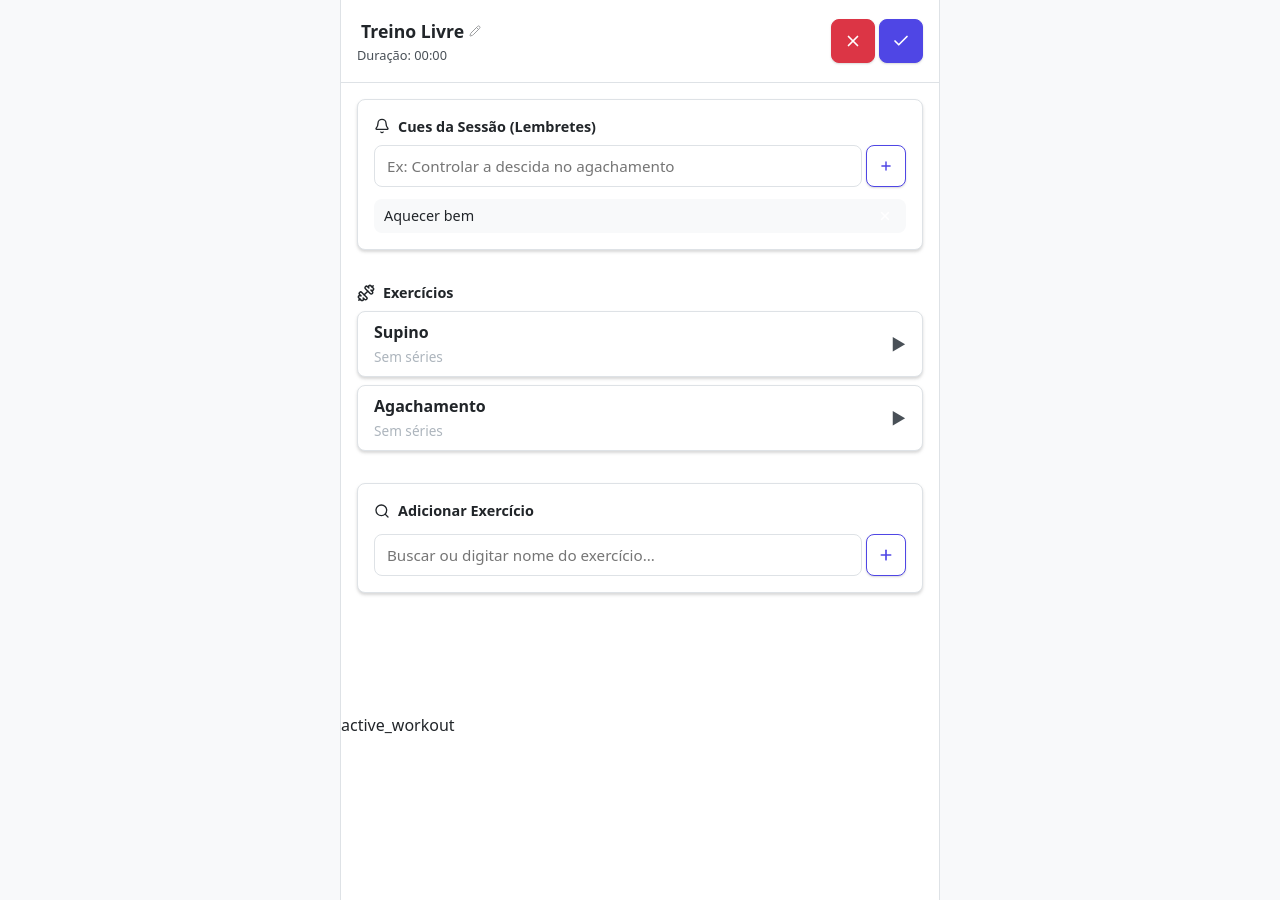
Test: ActiveWorkoutView — detalhe do exercício › exclui o exercício após confirmação e volta para a lista
This screenshot has width=1280, height=900.
Click the button "Supino Sem séries ▶": [401, 332] box [357, 311, 923, 377]
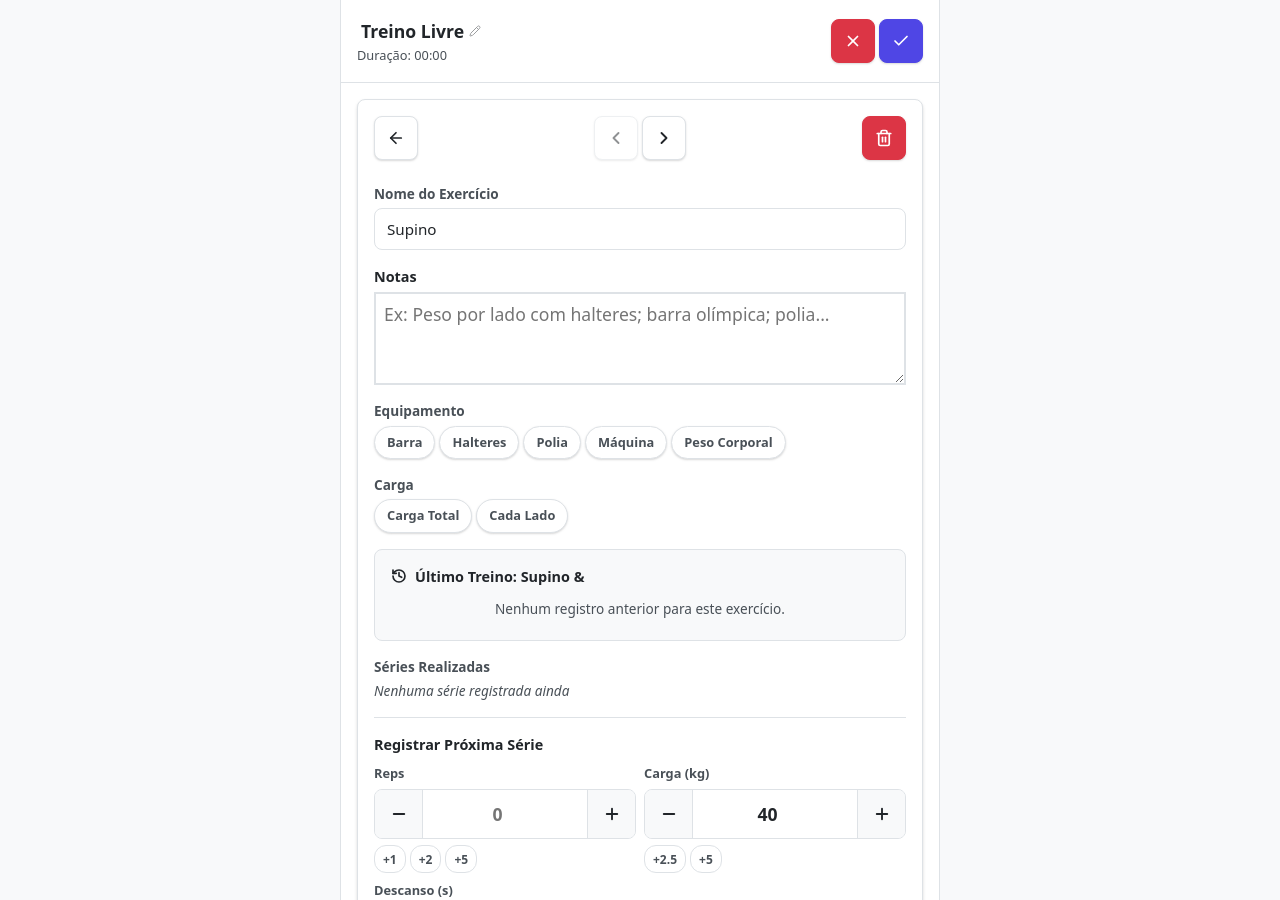
Click the button named "Excluir exercício atual": [884, 138] box [862, 116, 906, 160]
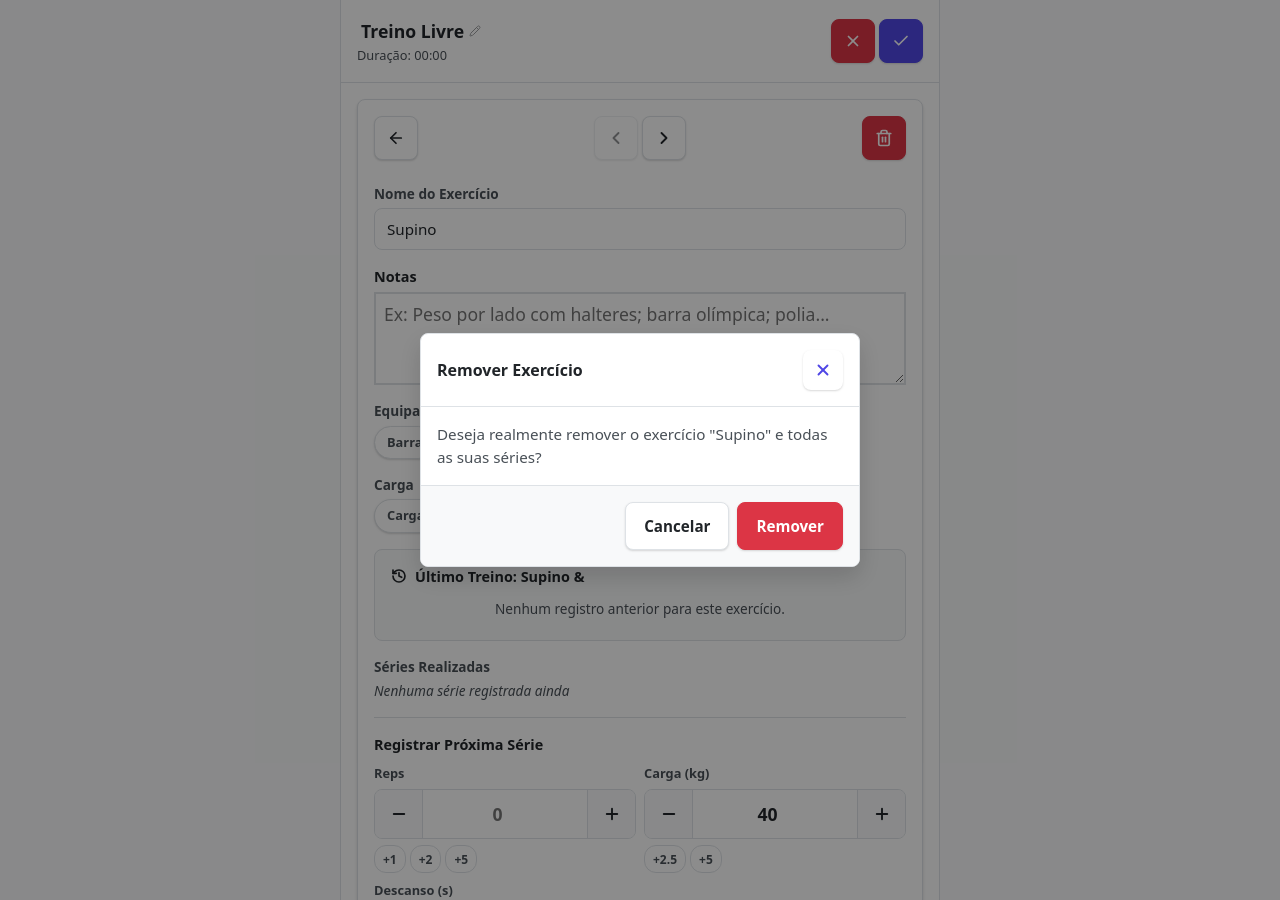
Now the heading "Remover Exercício" is shown, box [437, 358, 583, 382]
Click the button "Remover": [790, 526] box [738, 502, 843, 550]
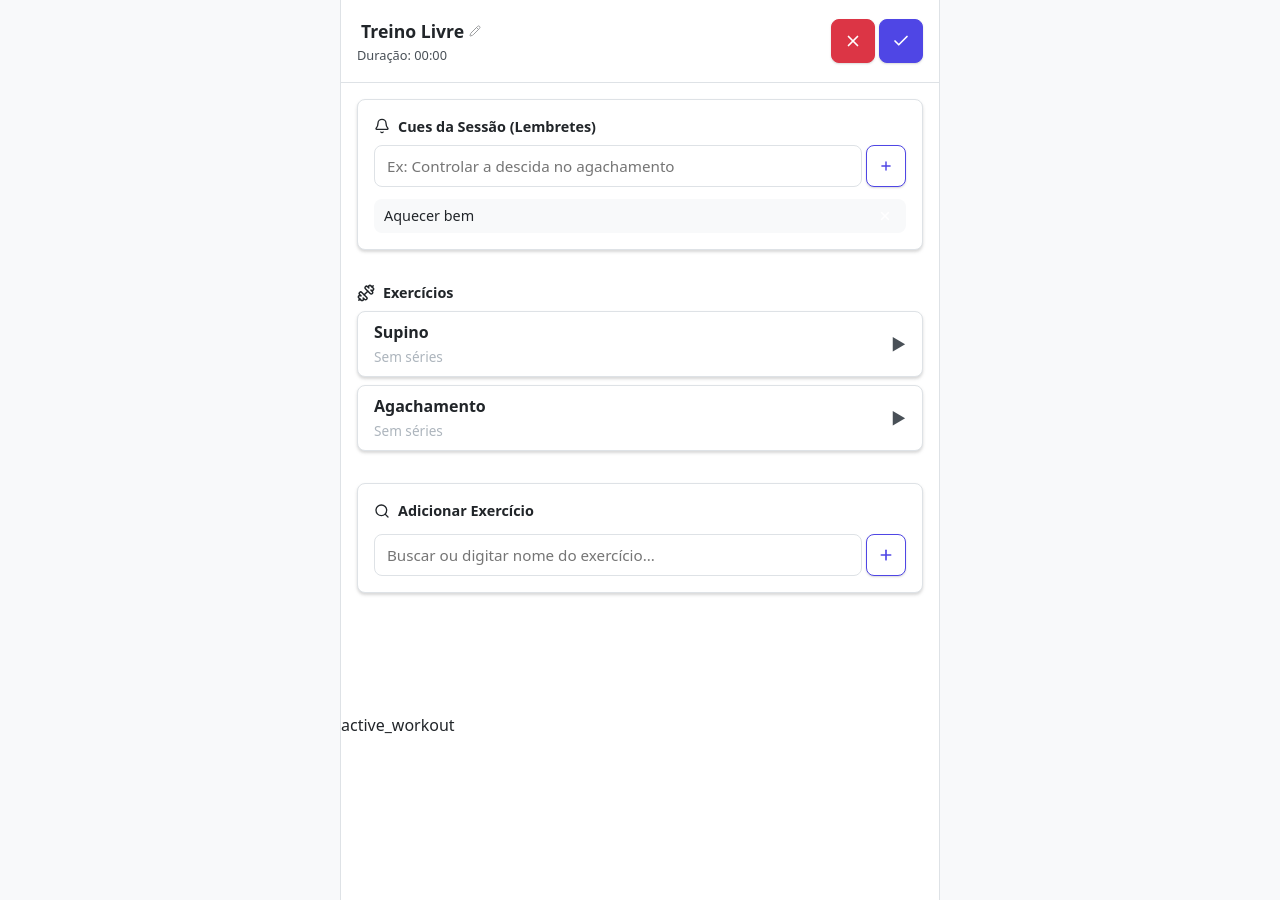
Now the text "Cues da Sessão (Lembretes)" is shown, box [398, 116, 596, 137]
